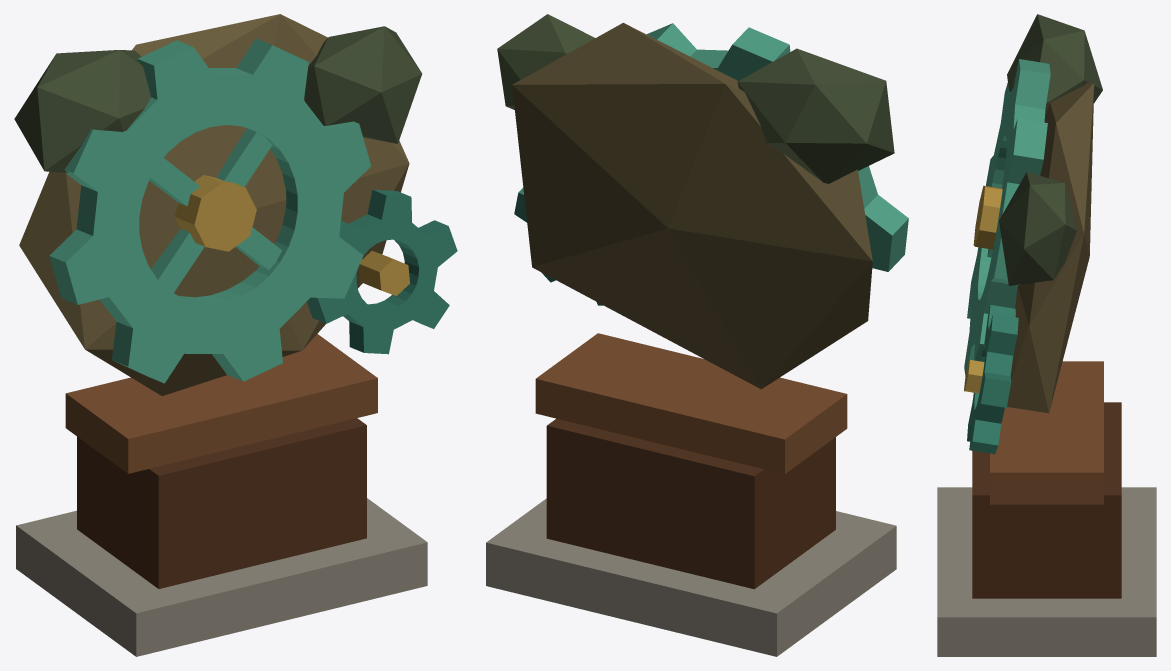
File: anticythere.glb
The picture shows the model from 3 angles, left to right: view 1: azimuth 30°, elevation 25°; view 2: azimuth 150°, elevation 25°; view 3: azimuth 270°, elevation 25°; orthographic projection. The views are drawn at different scales.
Visible parts, largest first — view 1: anticythere; view 2: anticythere; view 3: anticythere.
Part boxes in pixels (x1,y1,x2,y2): anticythere: (14, 14, 457, 656); anticythere: (486, 14, 908, 656); anticythere: (937, 14, 1156, 656).
Bounding box in the file's own units: 0.9413 × 1.27 × 0.5.
